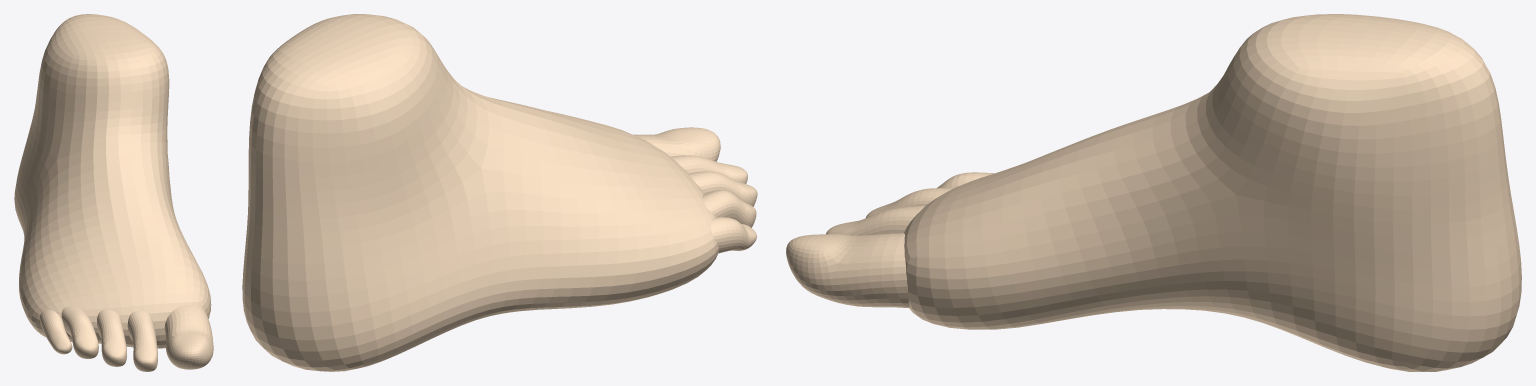
Rendered from RightFoot.fbx.
3 renders of one model, left to right at view 1: azimuth 30°, elevation 25°; view 2: azimuth 150°, elevation 25°; view 3: azimuth 270°, elevation 25°, orthographic. The views are drawn at different scales.
Parts seen in each view (by area): view 1: RightFoot; view 2: RightFoot; view 3: RightFoot.
Part boxes in pixels (x1,y1,x2,y2): RightFoot: (14, 14, 213, 371); RightFoot: (242, 14, 757, 371); RightFoot: (786, 14, 1521, 371).
Bounding box in the file's own units: 0.1306 × 0.1178 × 0.2339.
